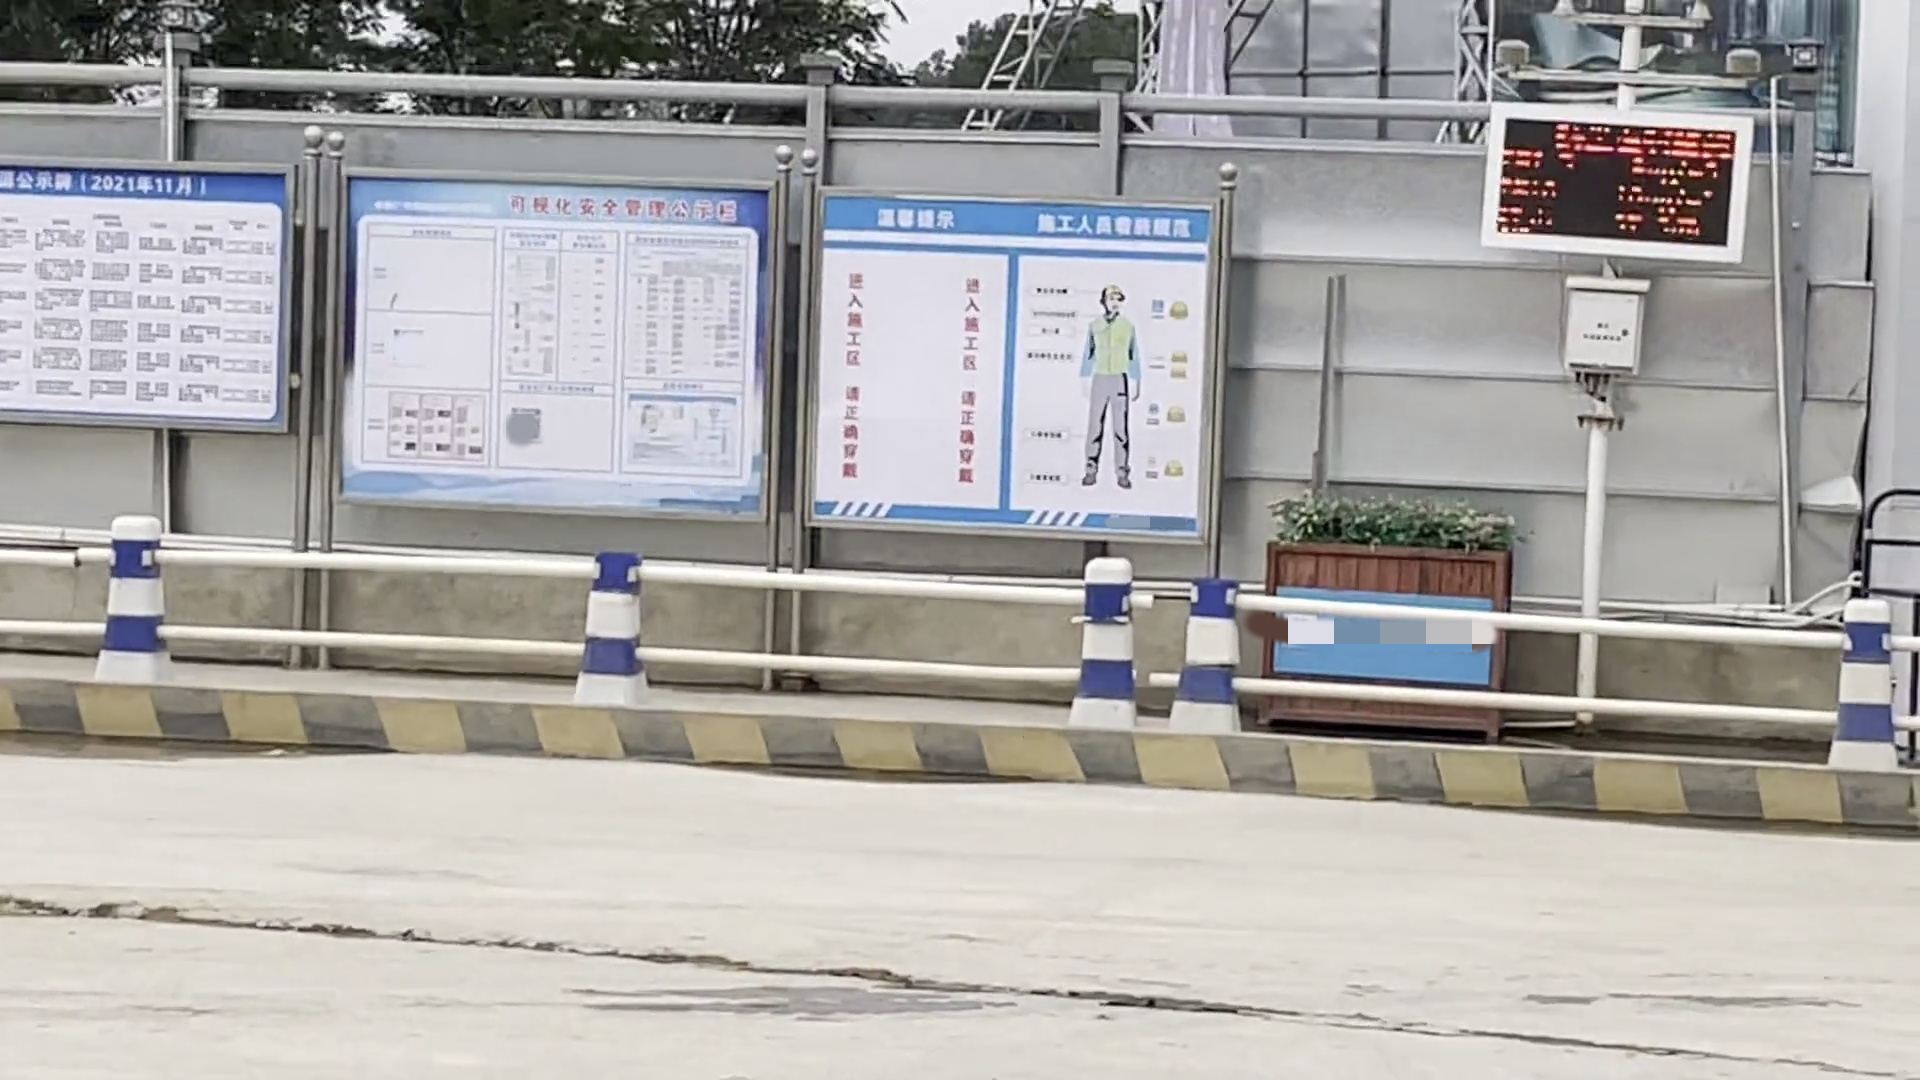slogan: (351, 178, 762, 510), (818, 195, 1199, 537), (7, 173, 295, 423)
